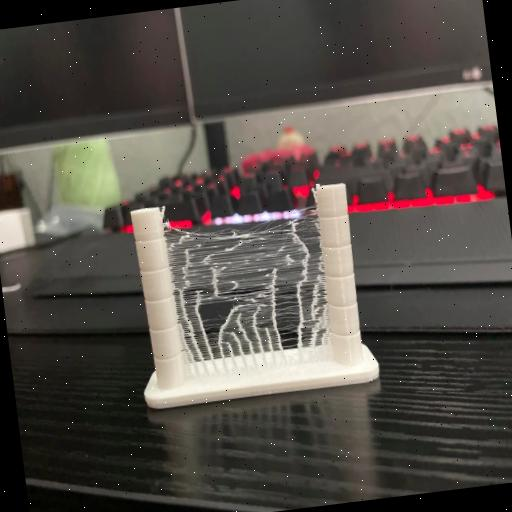stringing: (165, 203, 335, 378)
